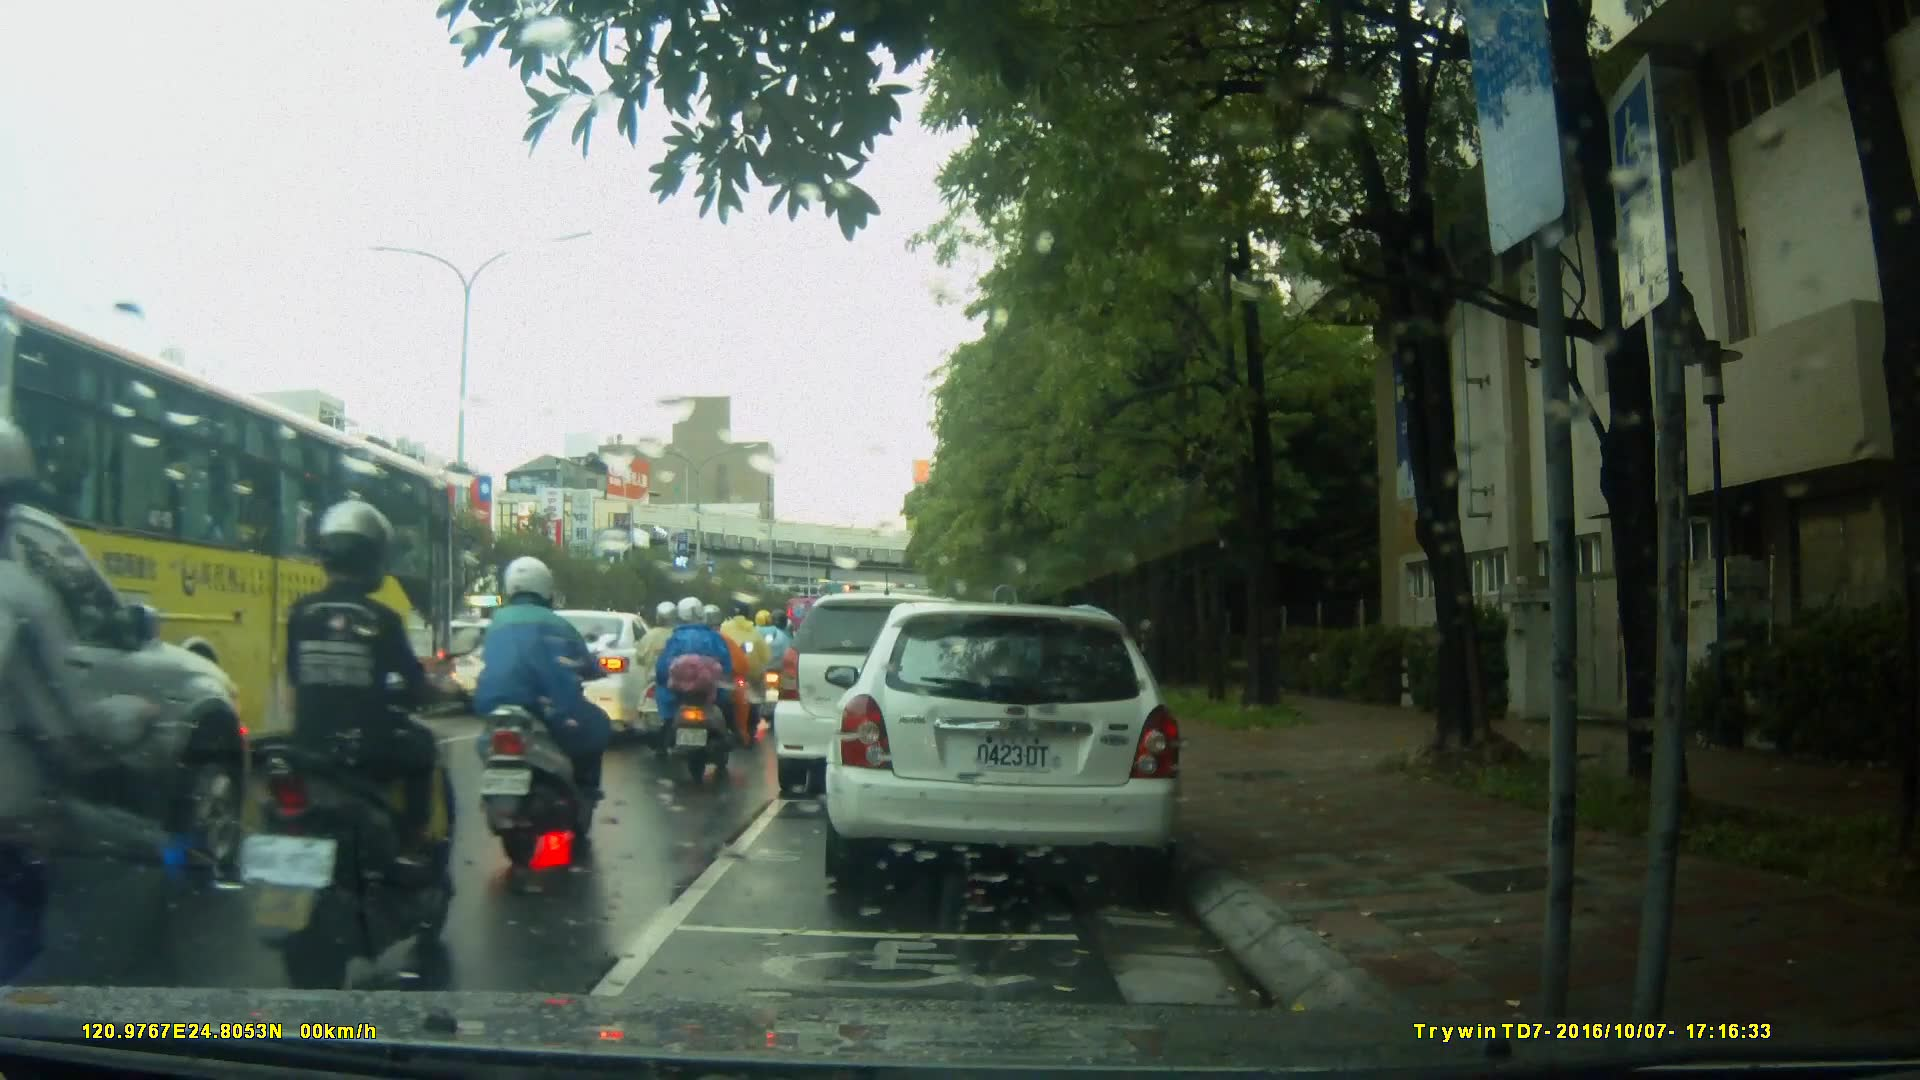rider: (1, 426, 220, 1025), (236, 498, 461, 977), (477, 545, 607, 874), (654, 596, 755, 785), (636, 594, 719, 765), (713, 594, 772, 742)
vehicle: (1, 299, 466, 778), (1, 490, 258, 943), (835, 594, 1194, 898), (776, 590, 1026, 784), (494, 608, 686, 741)
